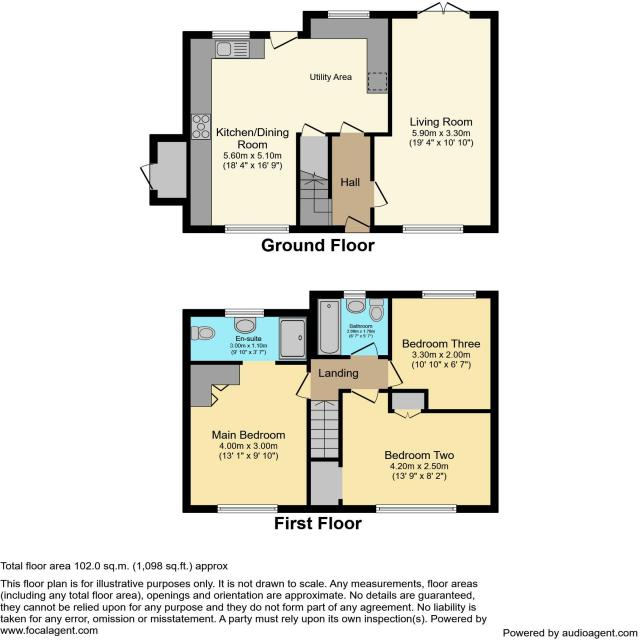DOOR: (342, 212, 377, 237), (267, 29, 300, 54), (135, 161, 160, 193), (368, 178, 392, 210), (349, 340, 380, 361), (349, 387, 381, 407), (338, 118, 368, 138), (387, 358, 406, 389), (293, 371, 312, 401), (300, 120, 328, 138)
DOUBLE DOOR: (417, 0, 472, 19)
ROOM: (180, 10, 395, 234), (369, 0, 500, 236), (336, 388, 499, 514), (180, 360, 311, 514), (387, 289, 499, 413)
WINDOW: (374, 503, 458, 515), (400, 222, 466, 236), (222, 223, 291, 235), (216, 503, 279, 515), (421, 289, 478, 301), (325, 8, 372, 21), (223, 307, 266, 319), (210, 29, 252, 41), (342, 289, 367, 300)
